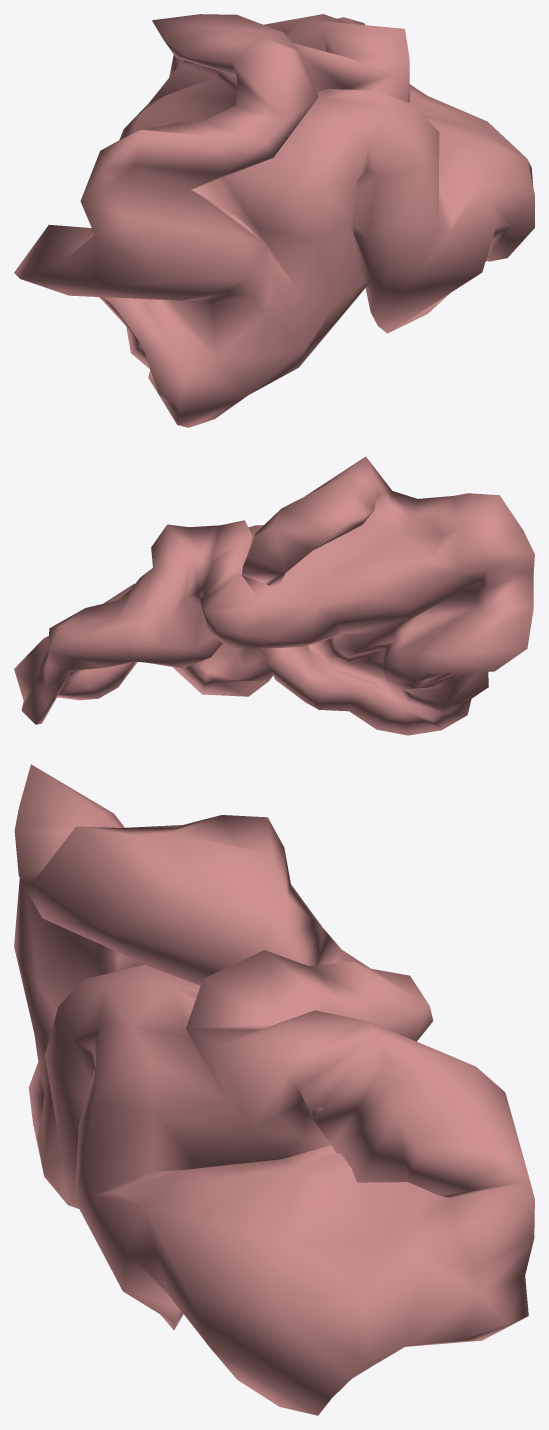
File: PreFrontal_L.001.fbx
The picture shows the model from 3 angles, top to bottom: view 1: azimuth 30°, elevation 25°; view 2: azimuth 150°, elevation 25°; view 3: azimuth 270°, elevation 25°; orthographic projection. The views are drawn at different scales.
Parts seen in each view (by area): view 1: Orbital gyri (Frontomarginal gyrus and sulcus*).l.001; view 2: Orbital gyri (Frontomarginal gyrus and sulcus*).l.001; view 3: Orbital gyri (Frontomarginal gyrus and sulcus*).l.001.
Boxes of the visible parts, x1=… form: Orbital gyri (Frontomarginal gyrus and sulcus*).l.001: x1=14, y1=14, x2=534, y2=427; Orbital gyri (Frontomarginal gyrus and sulcus*).l.001: x1=14, y1=456, x2=534, y2=735; Orbital gyri (Frontomarginal gyrus and sulcus*).l.001: x1=14, y1=764, x2=534, y2=1415.
Bounding box in the file's own units: 4.36 × 2.76 × 2.44.
